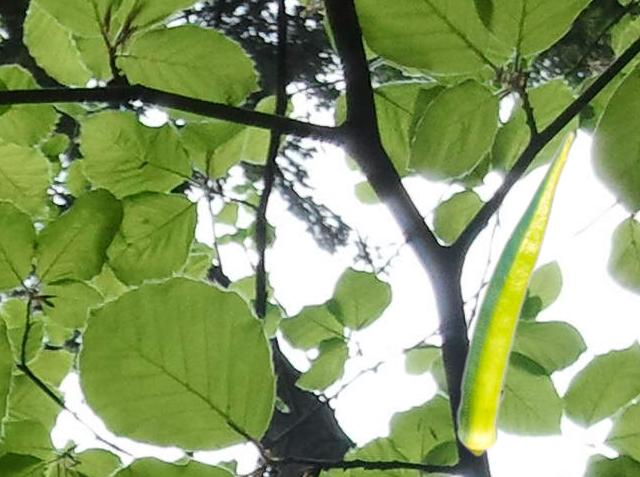okra: (456, 129, 575, 456)
